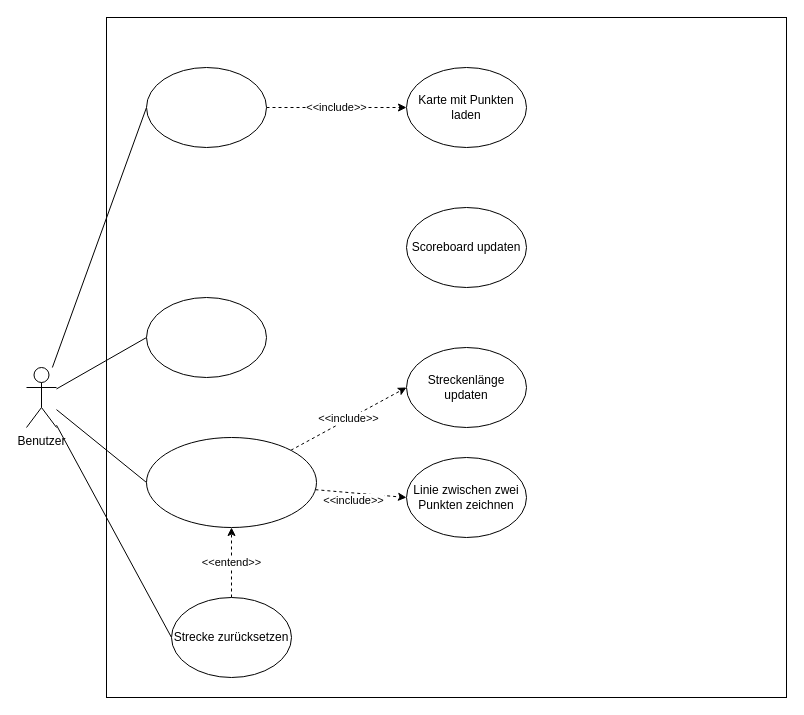
This 804x715 diagram has some shape labels left out. Here are the shapes that lost their labels. From the top down, the centre of each, then its label:
At point (206, 107): "Simulation starten".
At point (206, 337): "Startpunkt anklicken".
At point (231, 482): "Punkt für eine Teilstrecke anklicken --------------- EP: Strecke löschen".
